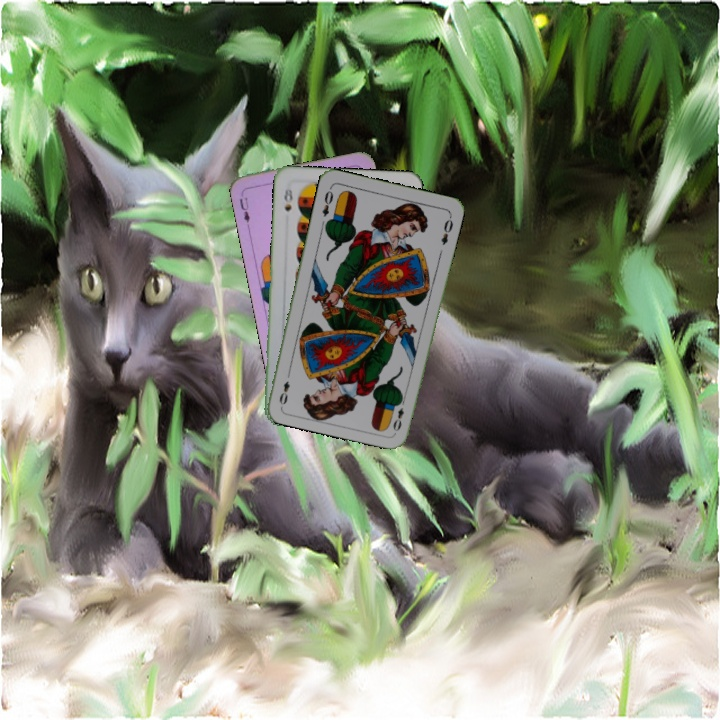EO: (389, 394, 408, 434), (318, 183, 336, 219)
EU: (236, 193, 252, 229)
S8: (280, 184, 295, 213)
